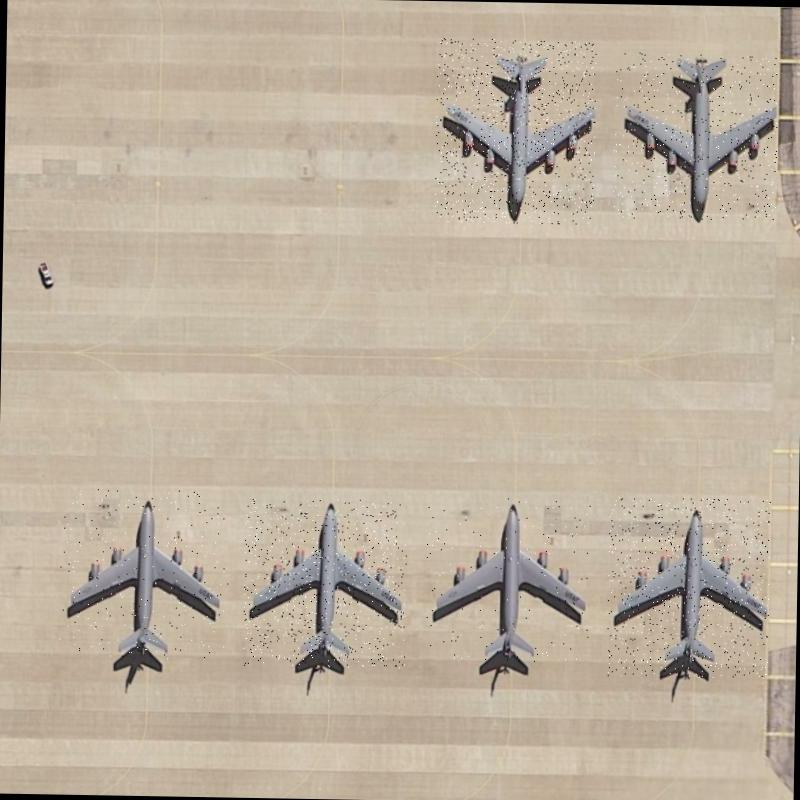A14: (434, 38, 596, 224), (606, 496, 770, 678), (58, 488, 230, 660), (242, 497, 408, 668), (612, 52, 779, 220), (424, 496, 590, 662)
